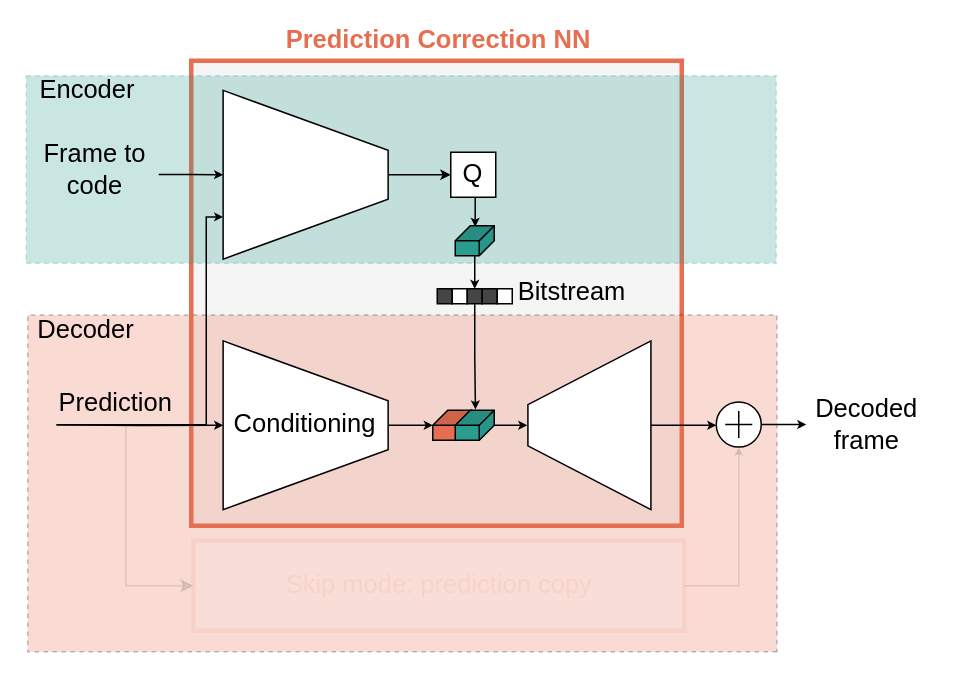
Image size: 954x678. Some labels were removed from this diagram. Each missing label, with the centre of its shape:
"Analysis" goes at point (305, 174).
"Synthesis" goes at point (588, 424).
